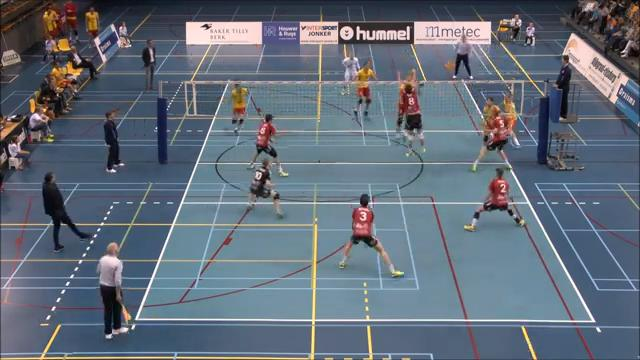Block: (396, 68, 430, 159)
Player: (339, 194, 403, 277), (464, 168, 524, 231), (471, 105, 511, 171), (249, 114, 288, 176), (248, 158, 283, 217), (396, 69, 415, 137), (354, 60, 376, 117), (503, 93, 521, 149), (231, 83, 247, 134), (342, 53, 359, 94), (482, 97, 493, 143)
ball: (444, 59, 454, 69)
